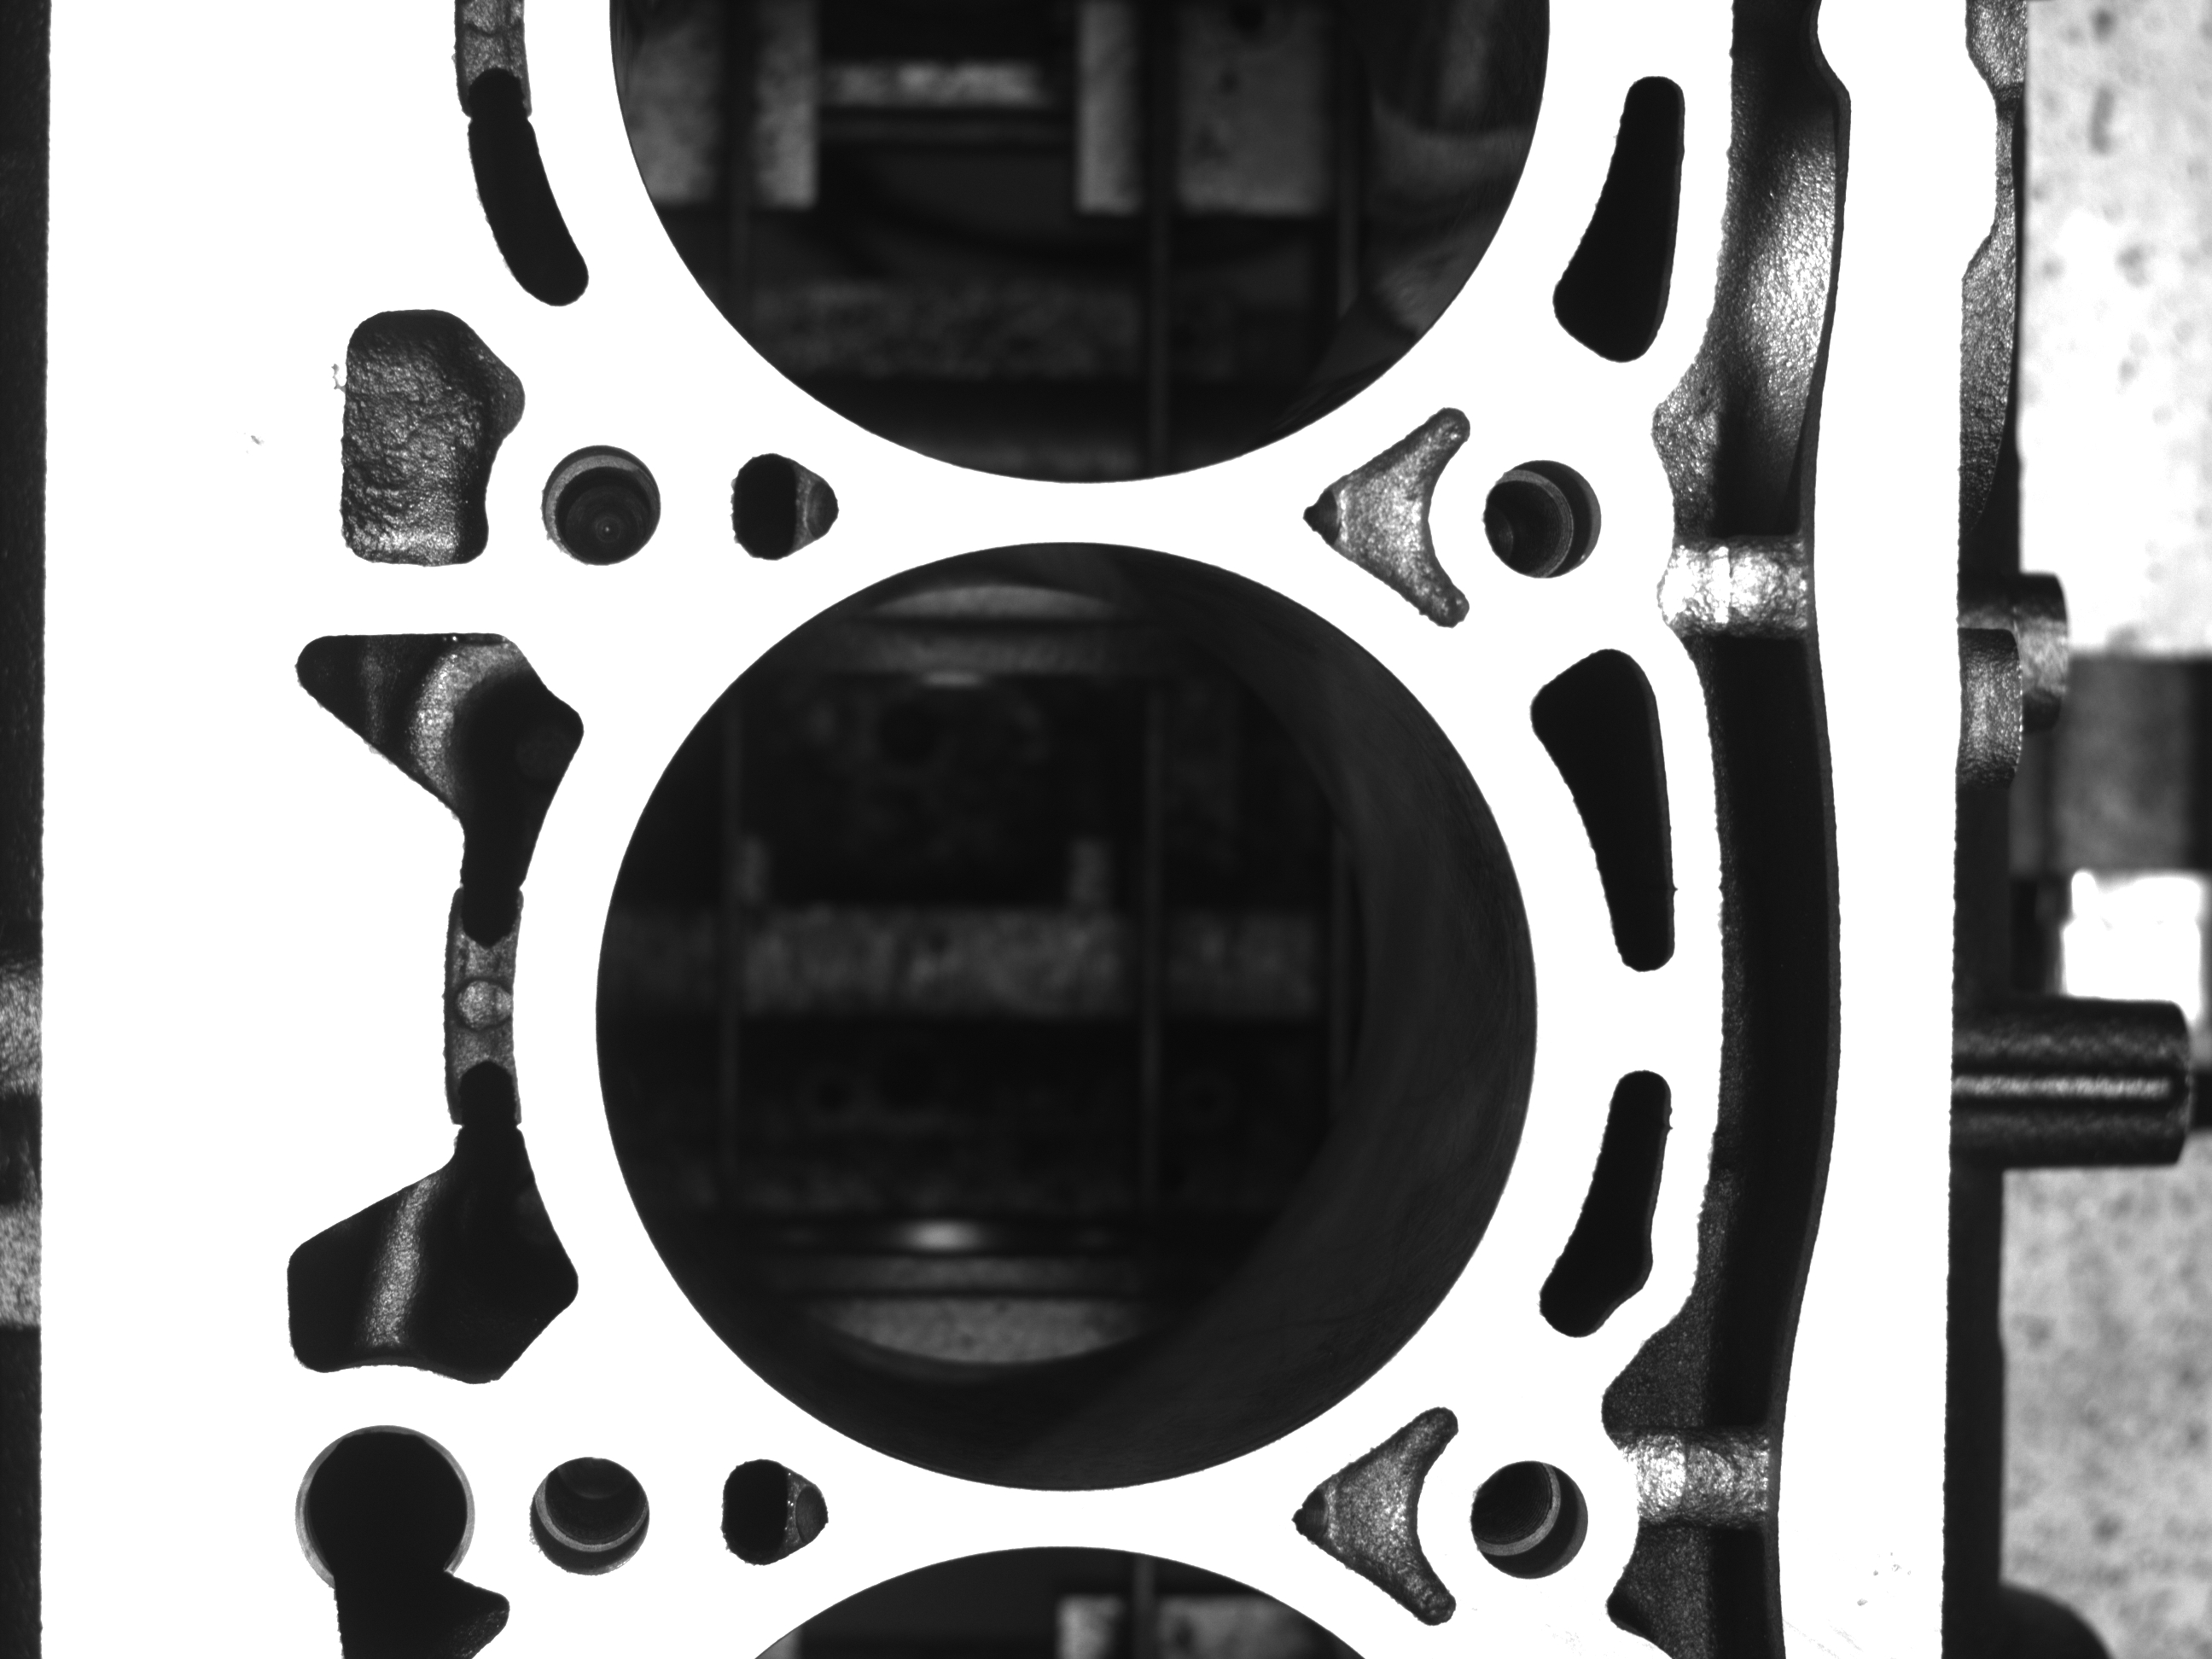shrinkage: (317, 336, 352, 423)
